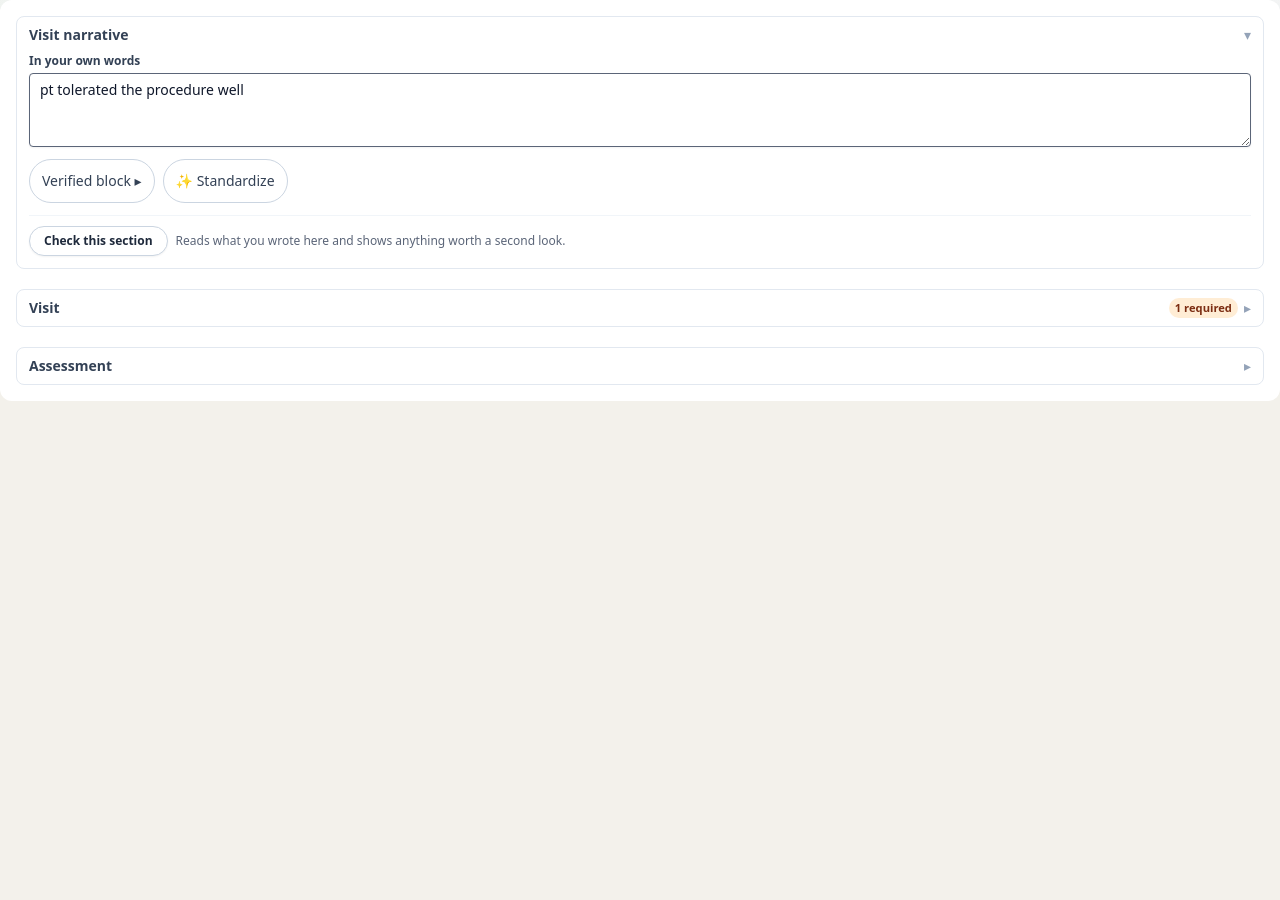
Test case: checking a section › shows what it found, and changes nothing
Click the button "Check this section": click(98, 241) [29,226,168,256]
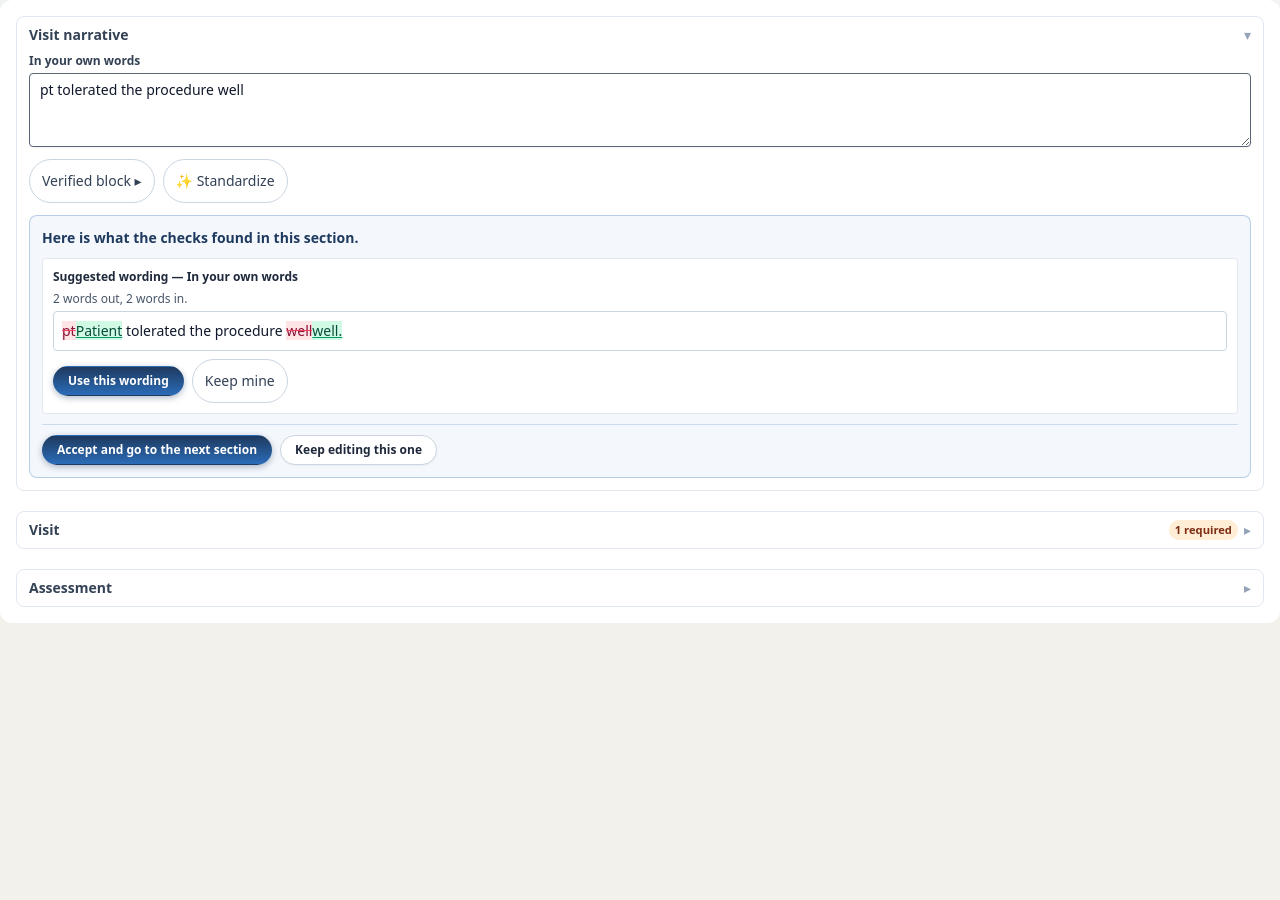
Now the text "Suggested wording — In your own words" is shown, box [53,268,298,285]
